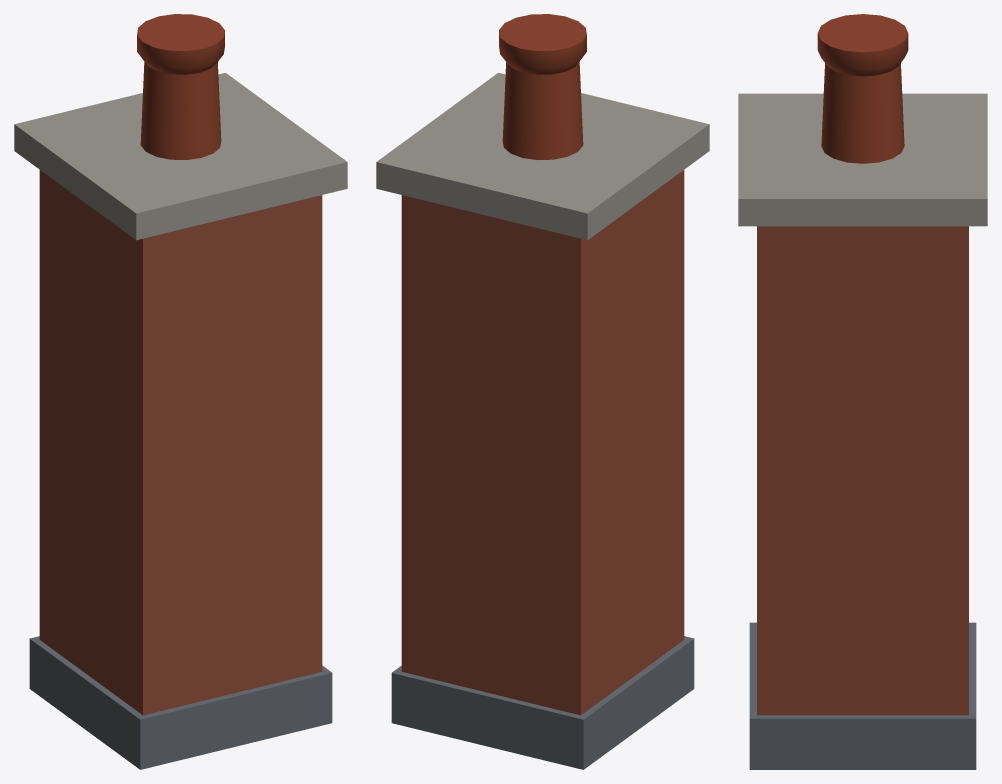
The model's file is roof.chimney.single.glb.
The picture shows the model from 3 angles, left to right: view 1: azimuth 30°, elevation 25°; view 2: azimuth 150°, elevation 25°; view 3: azimuth 270°, elevation 25°; orthographic projection. The views are drawn at different scales.
Visible parts, largest first — view 1: main__brick, main__concrete, main__lead, main__clay_tile; view 2: main__brick, main__concrete, main__lead, main__clay_tile; view 3: main__brick, main__concrete, main__lead, main__clay_tile.
Boxes of the visible parts, x1,y1,x2,y2 form: main__brick: (39, 170, 322, 715); main__concrete: (14, 73, 347, 240); main__lead: (29, 636, 332, 769); main__clay_tile: (137, 14, 224, 159); main__brick: (401, 170, 684, 715); main__concrete: (376, 73, 709, 240); main__lead: (391, 636, 694, 769); main__clay_tile: (499, 14, 586, 159); main__brick: (757, 226, 968, 715); main__concrete: (738, 93, 987, 226); main__lead: (749, 622, 976, 769); main__clay_tile: (817, 14, 908, 163).
Size of the model in its own units: 0.66 by 2.01 by 0.66.
